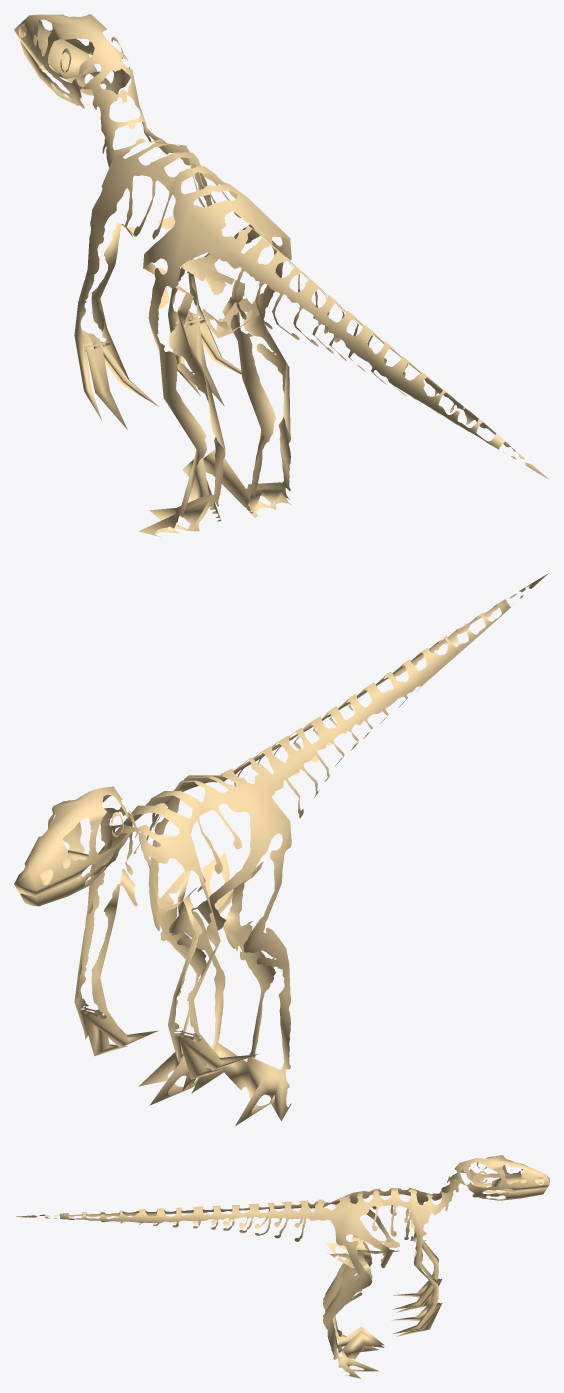
Rendered from Compy.fbx.
The picture shows the model from 3 angles, top to bottom: view 1: azimuth 30°, elevation 25°; view 2: azimuth 150°, elevation 25°; view 3: azimuth 270°, elevation 25°; orthographic projection. The views are drawn at different scales.
Parts seen in each view (by area): view 1: raptor; view 2: raptor; view 3: raptor.
Boxes of the visible parts, box(x1,y1,x2,y2) form: raptor: box(14, 14, 548, 537); raptor: box(14, 573, 548, 1125); raptor: box(16, 1155, 549, 1378).
Bounding box in the file's own units: 1.3 × 3.16 × 7.54.
1 material, 1 textured.
